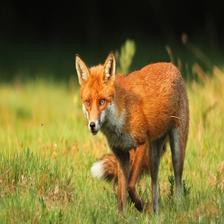fox: (71, 51, 199, 224)
